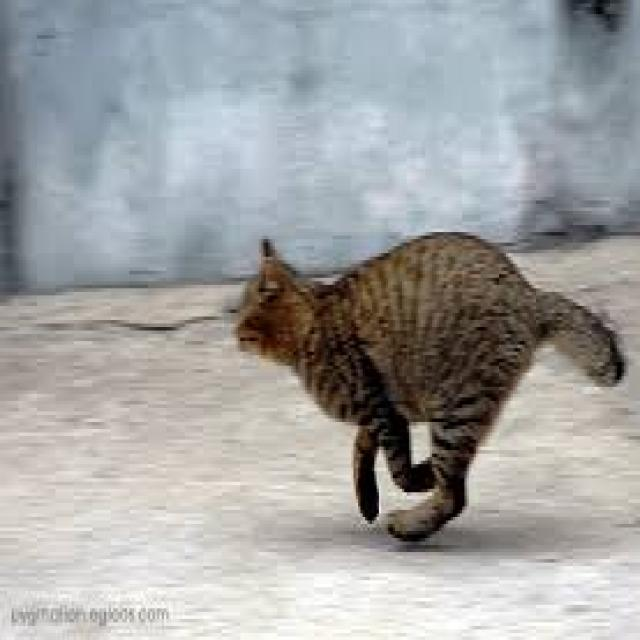cat: (185, 188, 640, 617)
